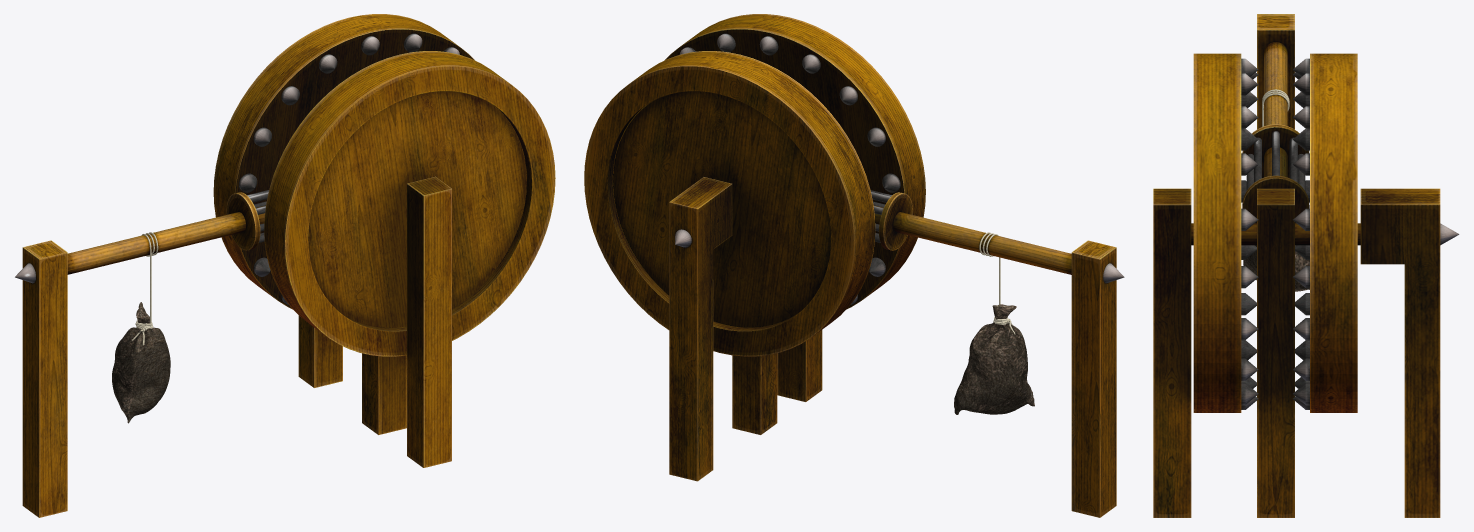
File: DaV_calculator.obj
3 views of the same model, side by side, from view 1: azimuth 30°, elevation 25°; view 2: azimuth 150°, elevation 25°; view 3: azimuth 270°, elevation 25° (orthographic). The views are drawn at different scales.
Parts seen in each view (by area): view 1: Wood_id, Sack_id, Metall_id; view 2: Wood_id, Sack_id, Metall_id; view 3: Wood_id, Metall_id, Sack_id.
Boxes of the visible parts, x1,y1,x2,y2 form: Wood_id: (22, 14, 555, 517); Sack_id: (112, 302, 170, 423); Metall_id: (15, 33, 459, 304); Wood_id: (584, 14, 1116, 517); Sack_id: (954, 304, 1034, 414); Metall_id: (675, 33, 1124, 304); Wood_id: (1153, 14, 1440, 517); Metall_id: (1241, 58, 1459, 409); Sack_id: (1243, 245, 1309, 291).
Bounding box in the file's own units: 1.68 × 1.22 × 0.7684.
